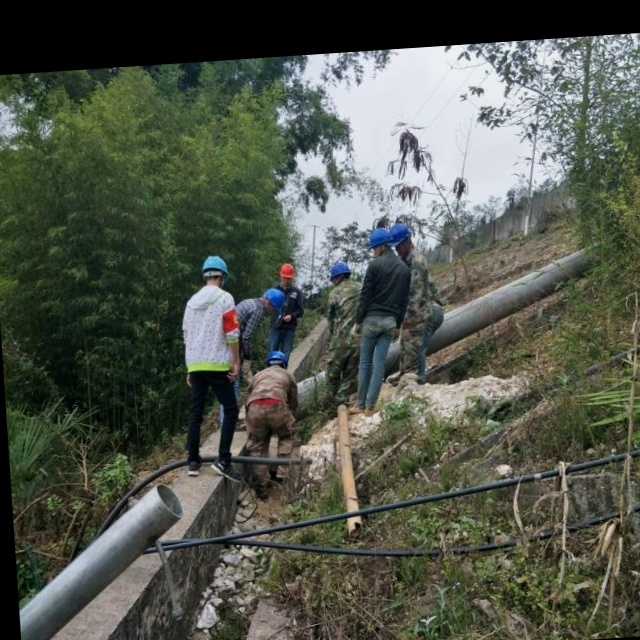Con_Casco: (201, 253, 228, 288), (328, 260, 353, 286), (278, 261, 296, 288)
Sin_Chaleco: (181, 289, 241, 371), (360, 254, 411, 325), (246, 364, 296, 423)
